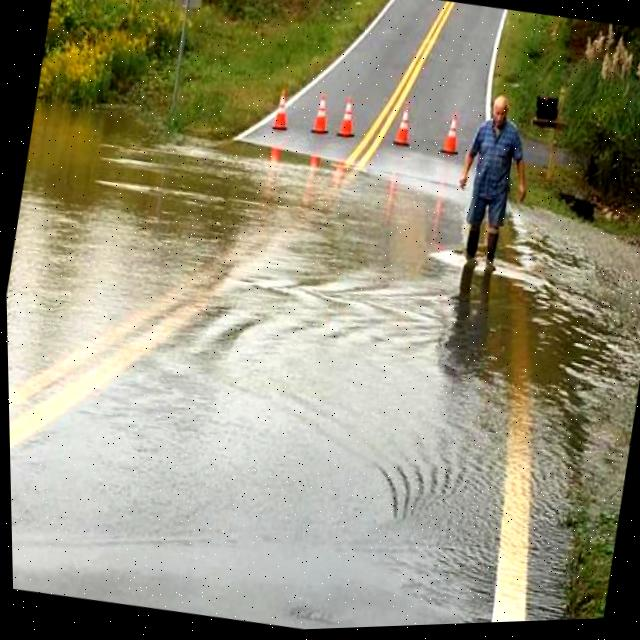civilian: (434, 76, 555, 281)
